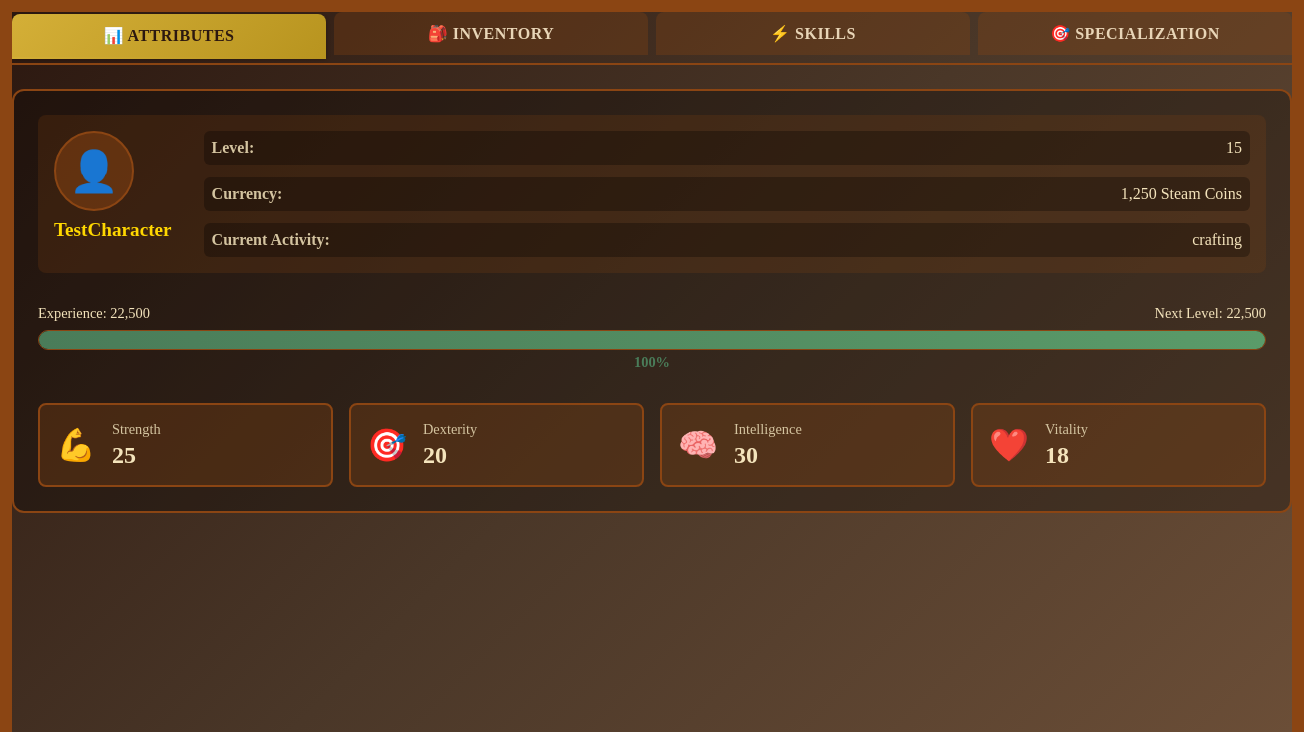
Test case: CharacterPanel › Skills Tab › displays all skill categories
Click the button "⚡ Skills" at (813, 34), box [656,12,970,55]
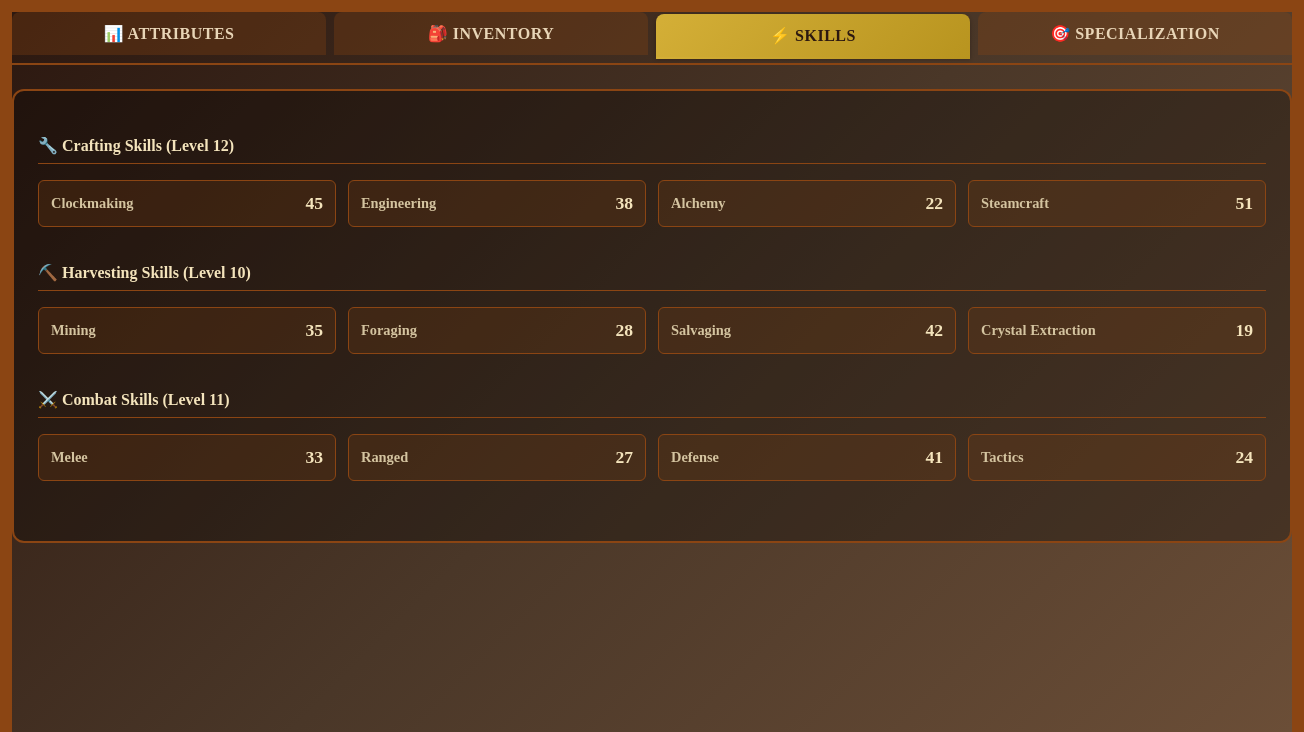
Now the heading "🔧 Crafting Skills (Level 12)" is shown, box [38,136,1266,164]
Now the heading "⛏️ Harvesting Skills (Level 10)" is shown, box [38,263,1266,291]
Now the heading "⚔️ Combat Skills (Level 11)" is shown, box [38,390,1266,418]
